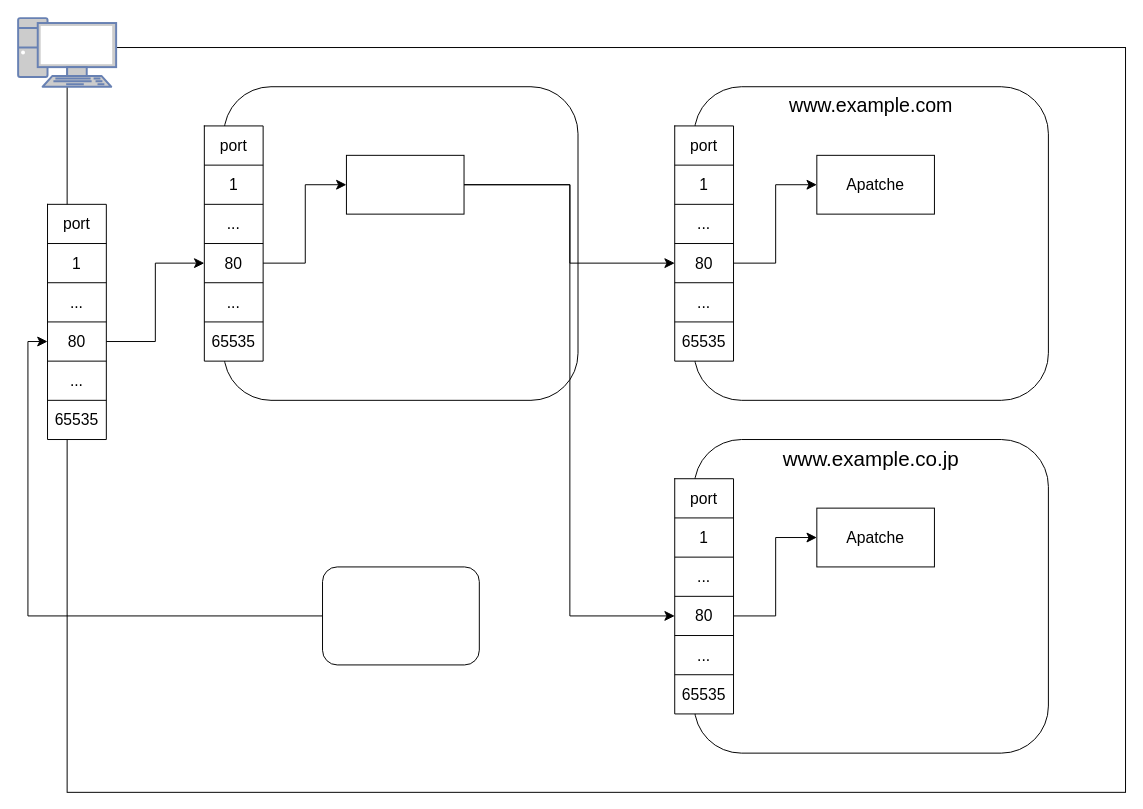
The diagram is 1143 pixels wide and 809 high, and some of its shapes have lost their labels. The centre of each missing label's shape, as x and y in pixels:
Command Line $ curl xxx: the point at 400,615
Nginx: the point at 404,184
